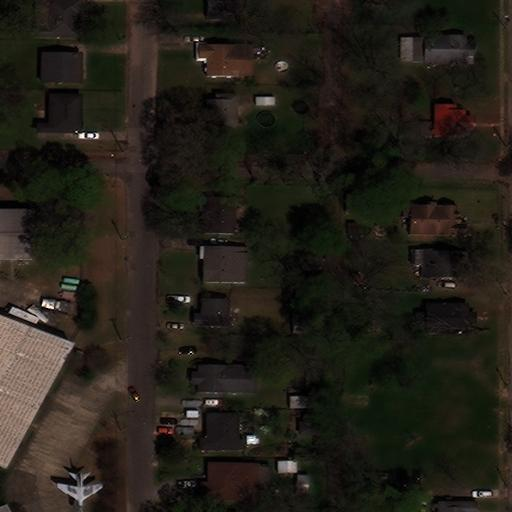Military Fighter: (56, 470, 104, 511)
